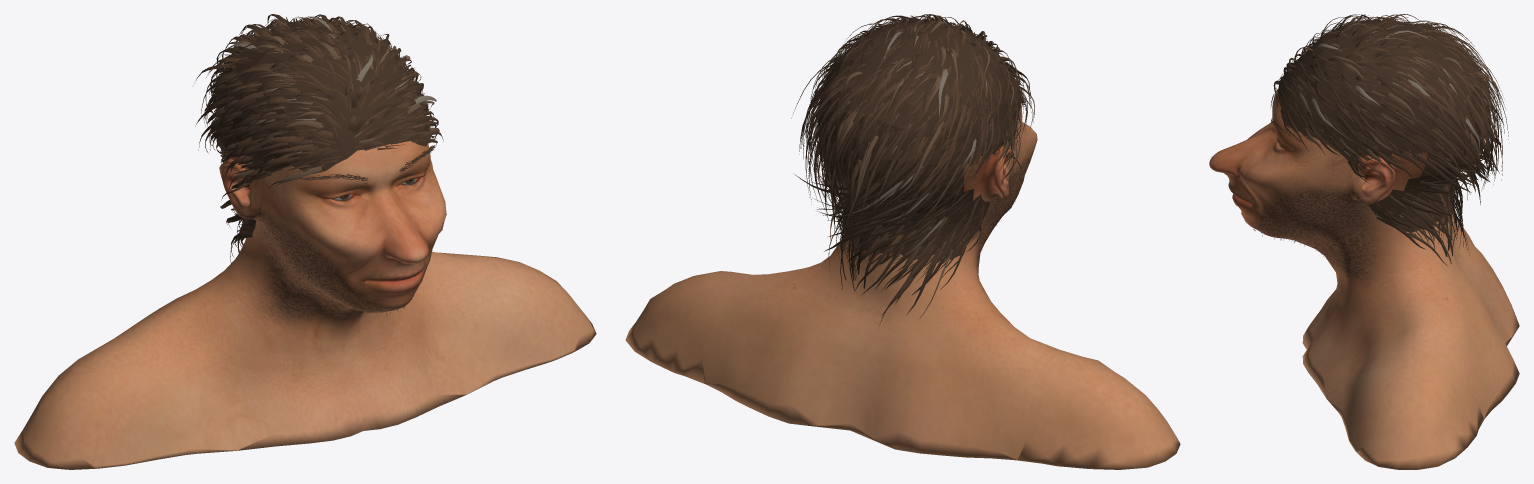
Rendered from VoltoLF1.glb.
The picture shows the model from 3 angles, left to right: view 1: azimuth 30°, elevation 25°; view 2: azimuth 150°, elevation 25°; view 3: azimuth 270°, elevation 25°; orthographic projection. The views are drawn at different scales.
Parts seen in each view (by area): view 1: Volto e spalle · LF1, Capelli e barba · interpretazione; view 2: Volto e spalle · LF1, Capelli e barba · interpretazione; view 3: Volto e spalle · LF1, Capelli e barba · interpretazione.
Part boxes in pixels (bbox=[...]): Volto e spalle · LF1: bbox=[14, 141, 596, 469]; Capelli e barba · interpretazione: bbox=[195, 14, 443, 316]; Volto e spalle · LF1: bbox=[625, 105, 1180, 469]; Capelli e barba · interpretazione: bbox=[791, 14, 1034, 325]; Volto e spalle · LF1: bbox=[1209, 89, 1519, 469]; Capelli e barba · interpretazione: bbox=[1245, 14, 1508, 266].
Size of the model in its own units: 0.5191 by 0.328 by 0.2835.
8 materials, 1 textured.
